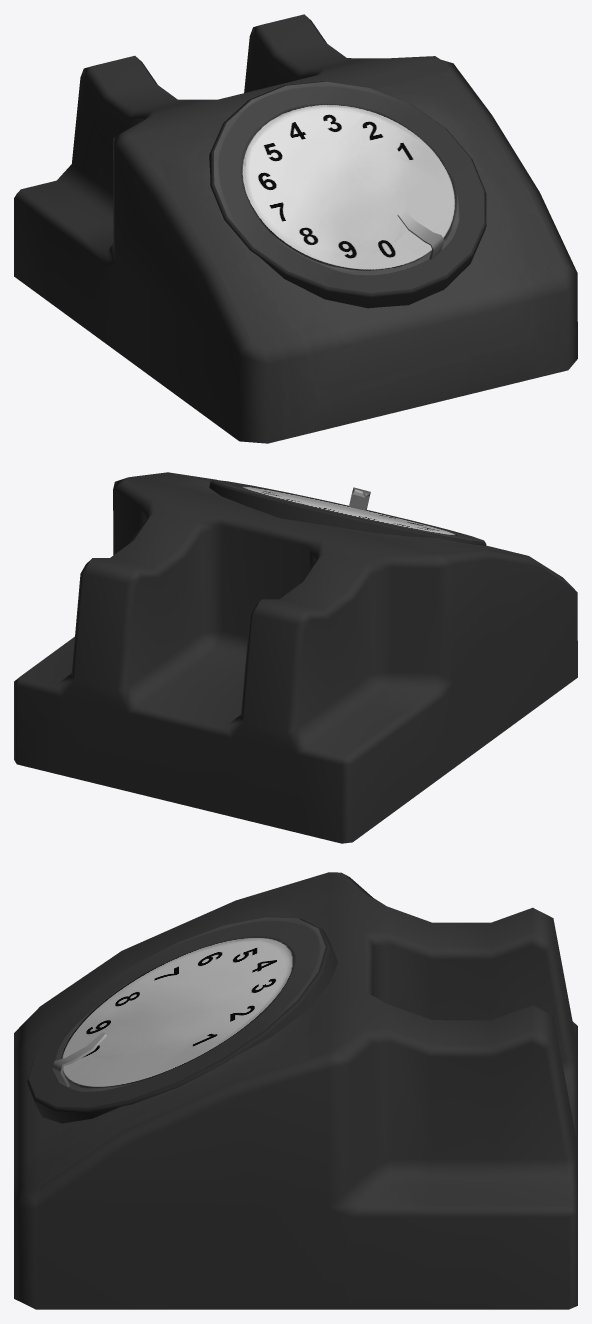
The model's file is mdl_phone.fbx.
3 views of the same model, one above another, from view 1: azimuth 30°, elevation 25°; view 2: azimuth 150°, elevation 25°; view 3: azimuth 270°, elevation 25° (orthographic). The views are drawn at different scales.
Visible parts, largest first — view 1: mesh_phone; view 2: mesh_phone; view 3: mesh_phone.
Part boxes in pixels (left/top/right/bottom): mesh_phone: left=14, top=14, right=577, bottom=443; mesh_phone: left=14, top=472, right=577, bottom=843; mesh_phone: left=14, top=872, right=577, bottom=1309.
Bounding box in the file's own units: 12.28 × 7.79 × 15.
1 material, 1 textured.
